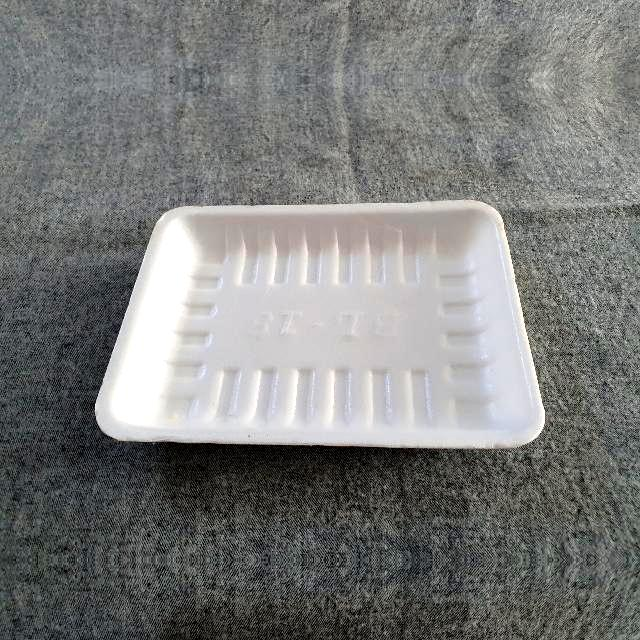Styrofoam: (94, 200, 546, 450), (95, 201, 546, 448)
